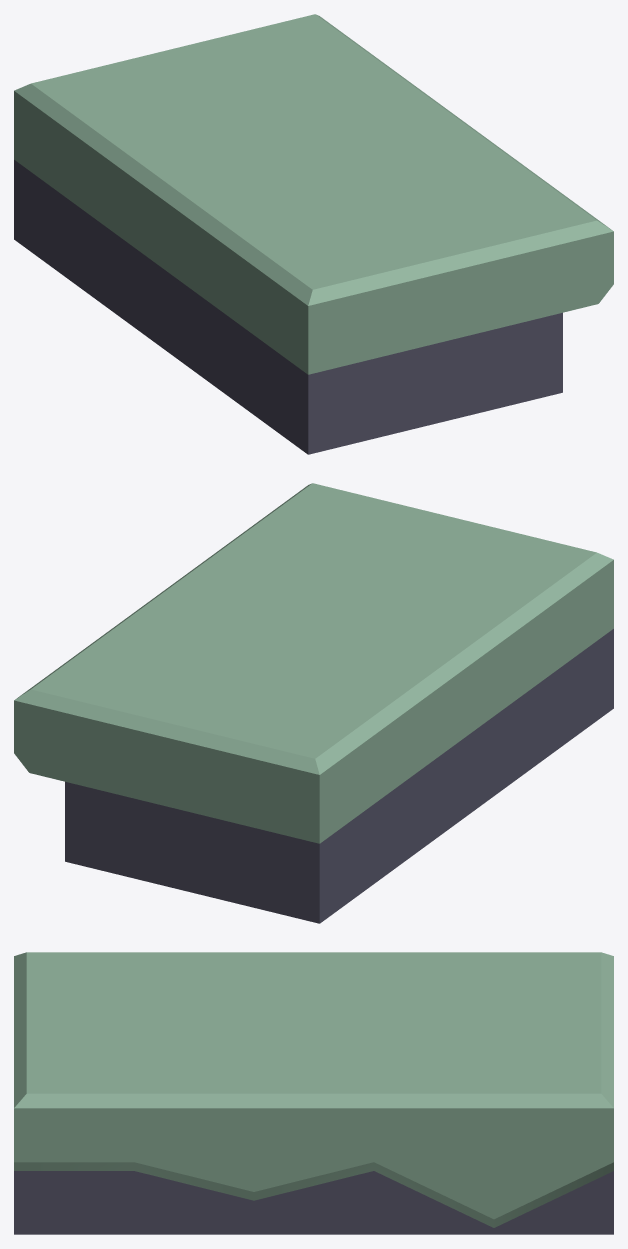
File: rightTile.fbx
3 renders of one model, top to bottom at view 1: azimuth 30°, elevation 25°; view 2: azimuth 150°, elevation 25°; view 3: azimuth 270°, elevation 25°, orthographic.
Parts seen in each view (by area): view 1: rightTile; view 2: rightTile; view 3: rightTile.
Boxes of the visible parts, x1,y1,x2,y2 form: rightTile: (14,14,613,454); rightTile: (14,483,613,923); rightTile: (14,952,613,1234).
Bounding box in the file's own units: 60 × 29.6 × 100.
